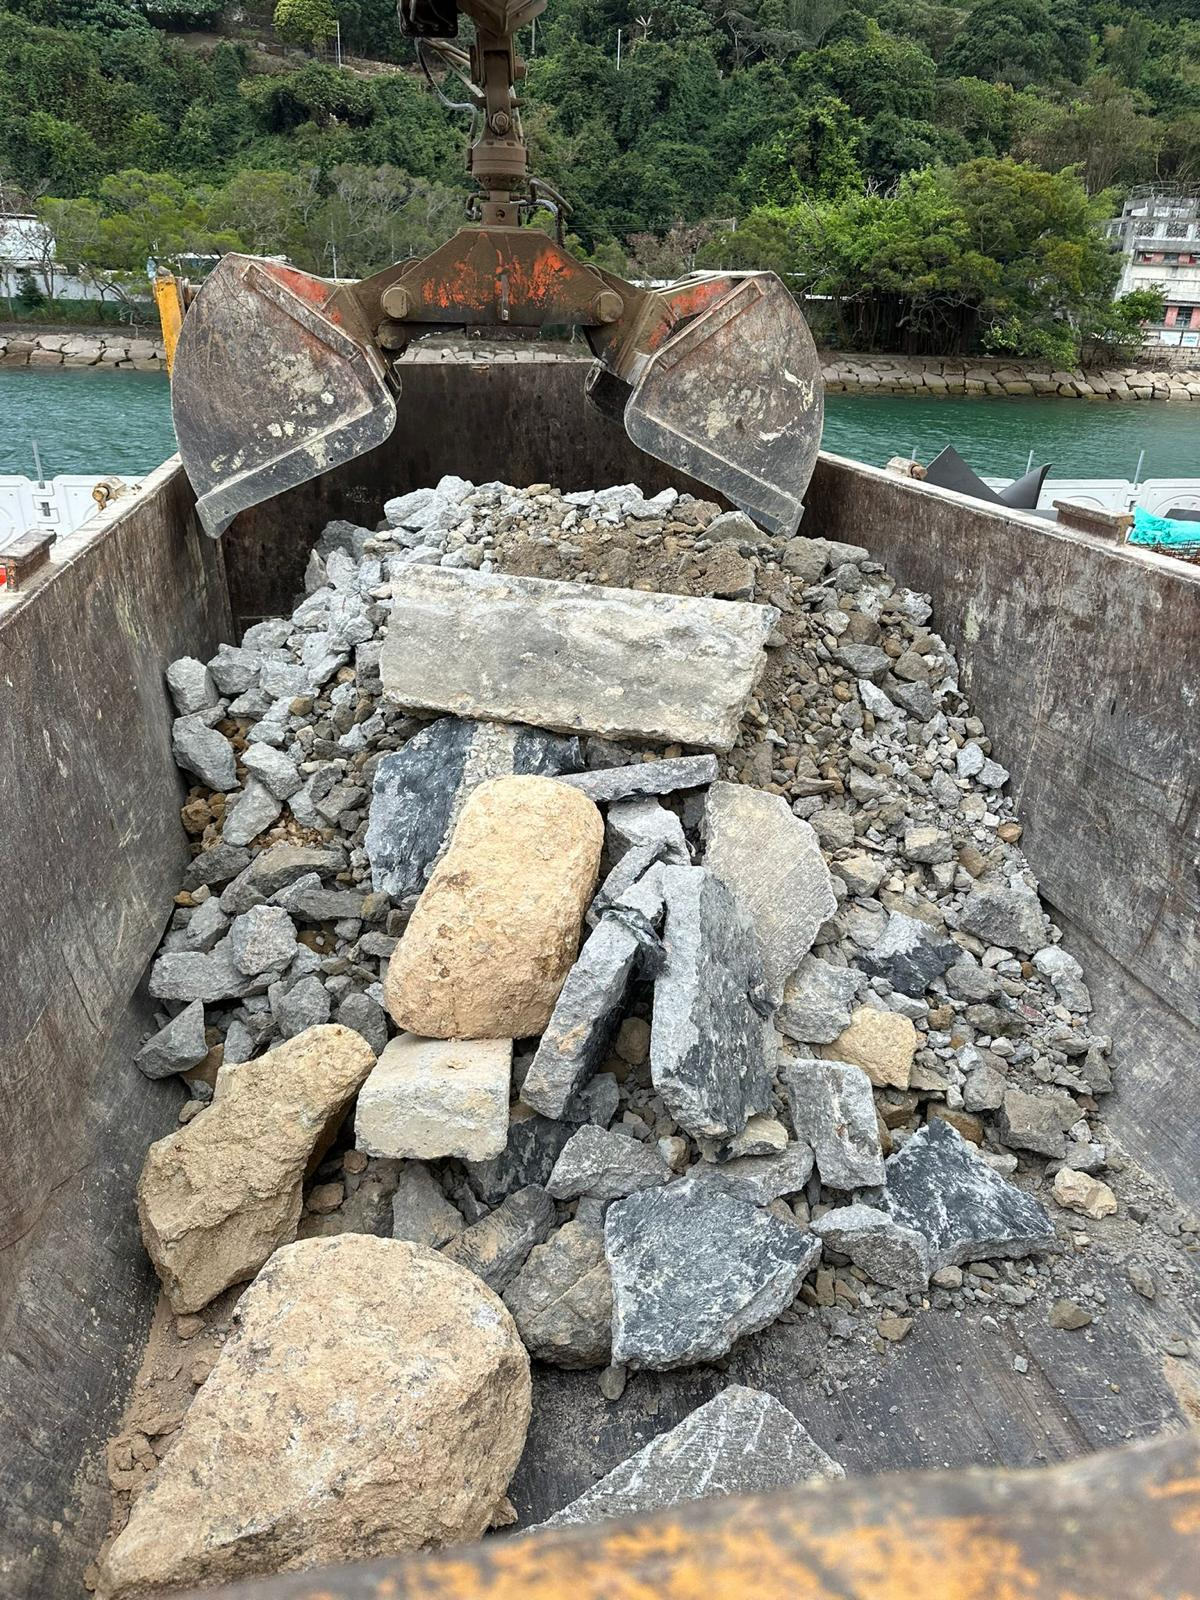dry: (163, 485, 1118, 1565)
